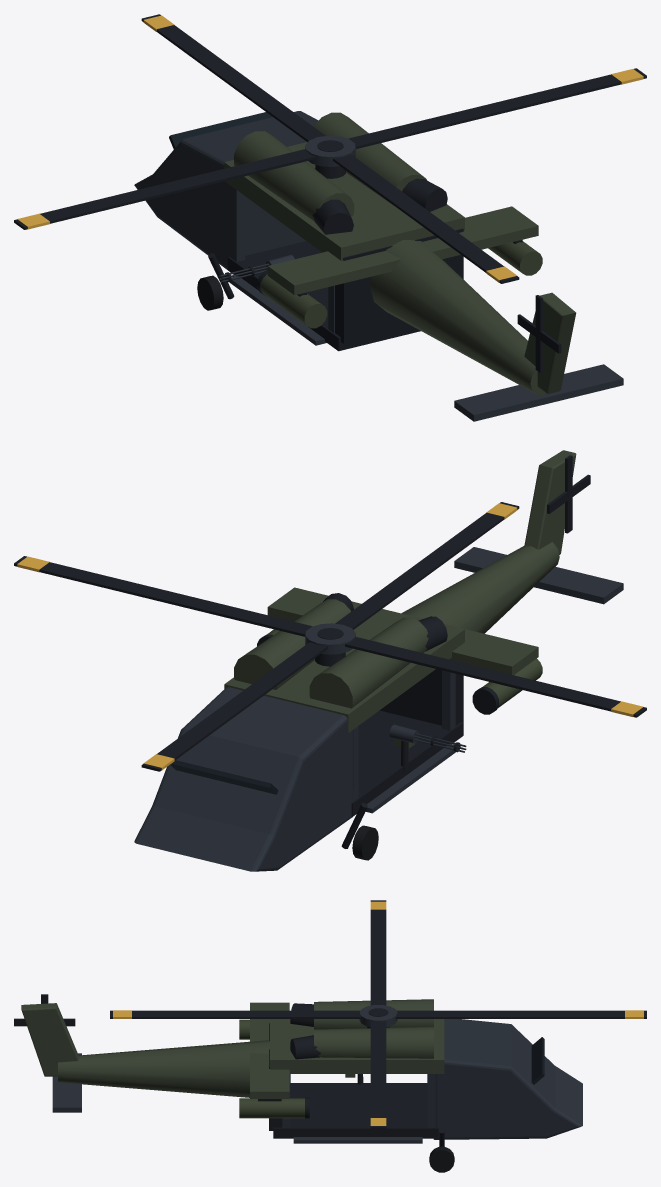
The model's file is uh60_gunship.glb.
3 views of the same model, one above another, from view 1: azimuth 30°, elevation 25°; view 2: azimuth 150°, elevation 25°; view 3: azimuth 270°, elevation 25° (orthographic). The views are drawn at different scales.
Visible parts, largest first — view 1: MainRotor, object 28, object 1, object 4, object 17, object 13, object 30, object 5, object 29, object 3, object 15, object 19 (+8 smaller); view 2: object 1, MainRotor, object 28, object 4, object 3, object 13, object 17, object 15, object 29, object 30, object 5, object 8 (+7 smaller); view 3: object 1, MainRotor, object 28, object 3, object 4, object 15, object 29, object 17, object 13, object 24, object 30, object 11 (+4 smaller).
Part boxes in pixels (x1,y1,x2,y2): MainRotor: [14, 14, 646, 283]; object 28: [369, 240, 546, 395]; object 1: [134, 111, 318, 274]; object 4: [224, 142, 464, 260]; object 17: [267, 206, 538, 295]; object 13: [234, 131, 354, 220]; object 30: [454, 364, 623, 421]; object 5: [335, 228, 463, 343]; object 29: [524, 292, 576, 393]; object 3: [227, 241, 420, 351]; object 15: [313, 112, 426, 205]; object 19: [260, 274, 327, 328]; object 1: [134, 687, 353, 871]; MainRotor: [14, 502, 646, 771]; object 28: [401, 542, 559, 633]; object 4: [224, 601, 464, 732]; object 3: [351, 710, 463, 816]; object 13: [309, 617, 428, 708]; object 17: [267, 587, 538, 675]; object 15: [234, 599, 350, 689]; object 29: [524, 450, 576, 554]; object 30: [454, 547, 623, 604]; object 5: [380, 669, 463, 725]; object 8: [365, 743, 455, 813]; object 1: [433, 1019, 582, 1139]; MainRotor: [110, 900, 646, 1128]; object 28: [58, 1040, 269, 1097]; object 3: [273, 1083, 438, 1138]; object 4: [270, 1019, 444, 1073]; object 15: [314, 1026, 433, 1058]; object 29: [21, 1003, 78, 1076]; object 17: [250, 1002, 289, 1098]; object 13: [314, 999, 433, 1029]; object 24: [239, 1098, 304, 1118]; object 30: [52, 1053, 81, 1112]; object 11: [293, 1137, 422, 1143].
Bounding box in the file's own units: 11.85 × 3.47 × 13.97.
